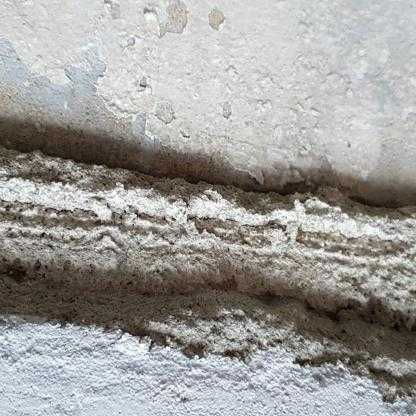crack: (4, 138, 310, 201), (353, 188, 404, 211)
